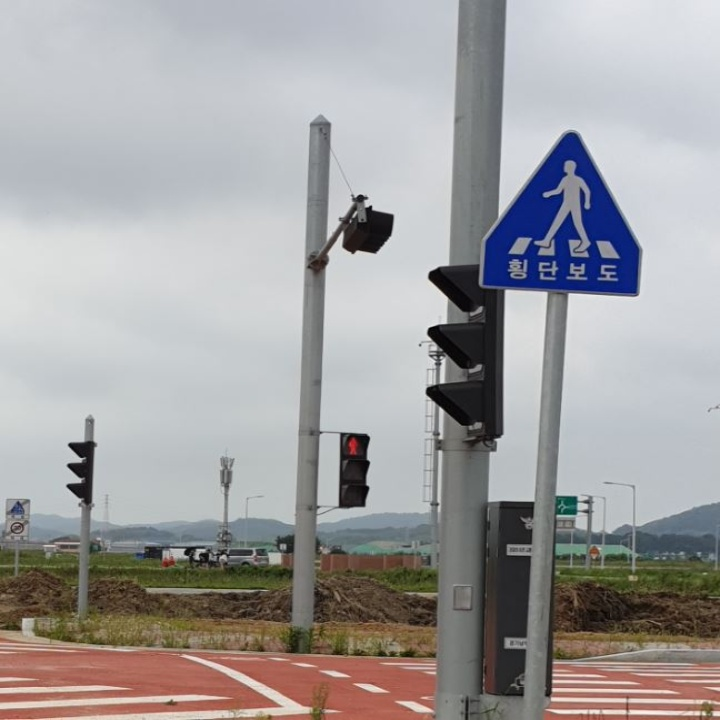cross: (527, 142, 601, 254)
